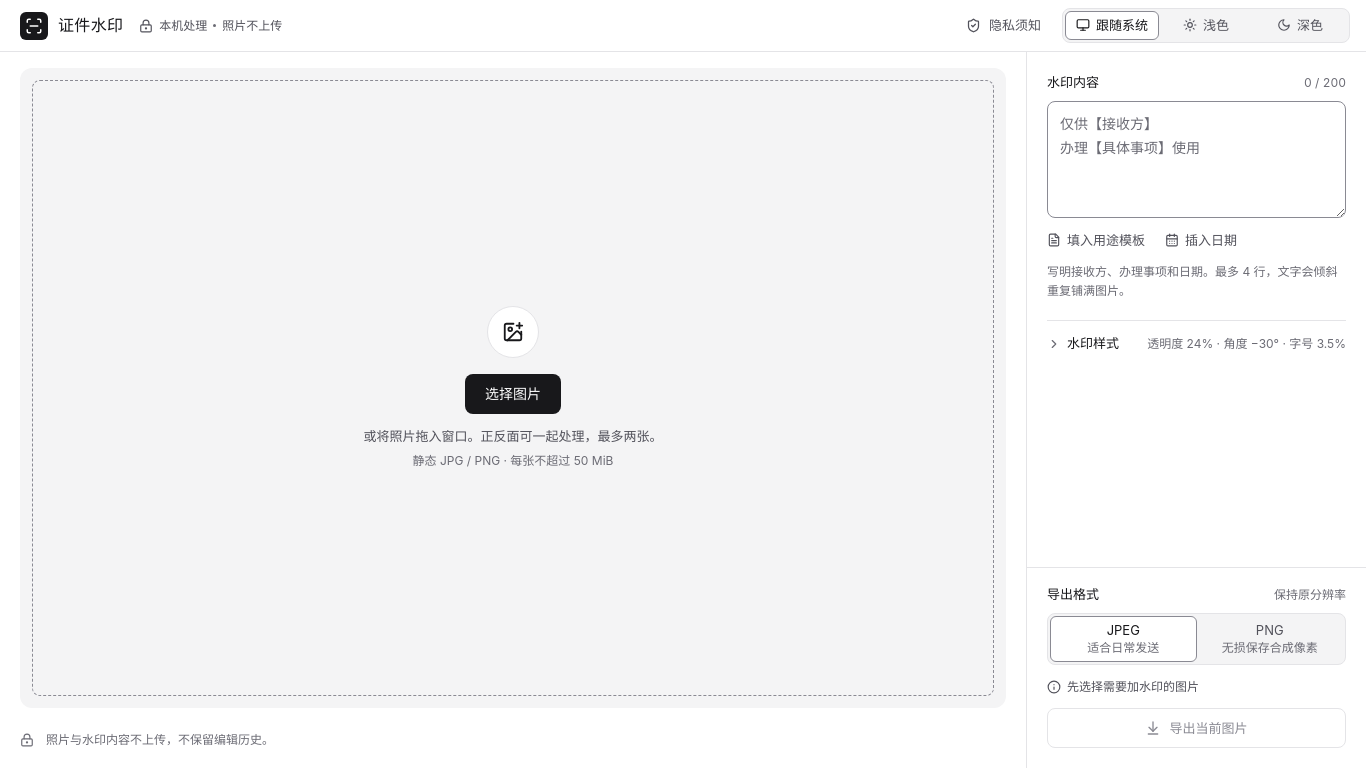
it: an export error appears in the export dock, not above the stage
Click the button "选择图片" at (90, 388), box [32,80,994,696]
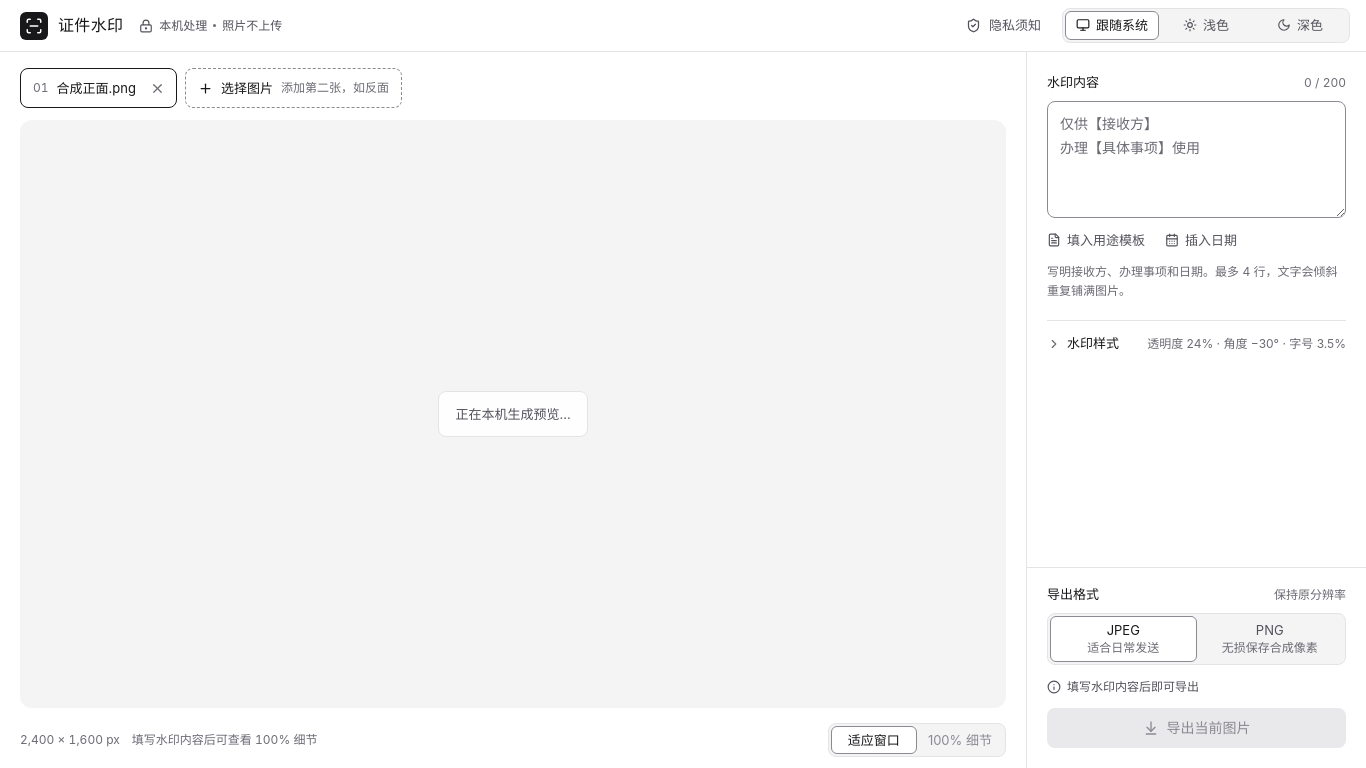
Expected: the text "合成正面.png" is shown, [57,78,136,98]
Type "仅供测试使用" into the text box labelled "水印内容" at (1196, 159), box [1047,101,1346,218]
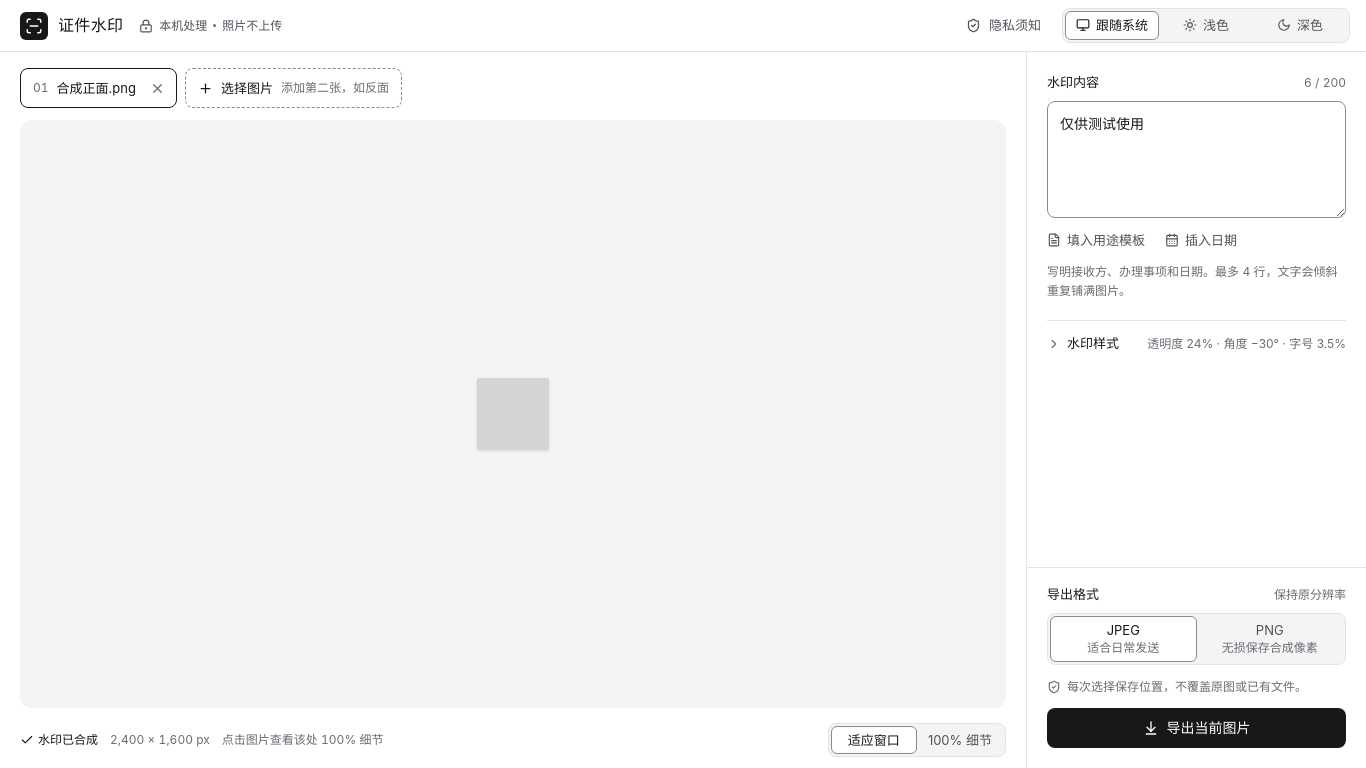
Expected: the button "导出当前图片" is enabled
Click the button "导出当前图片" at (1196, 728), box [1047,708,1346,748]
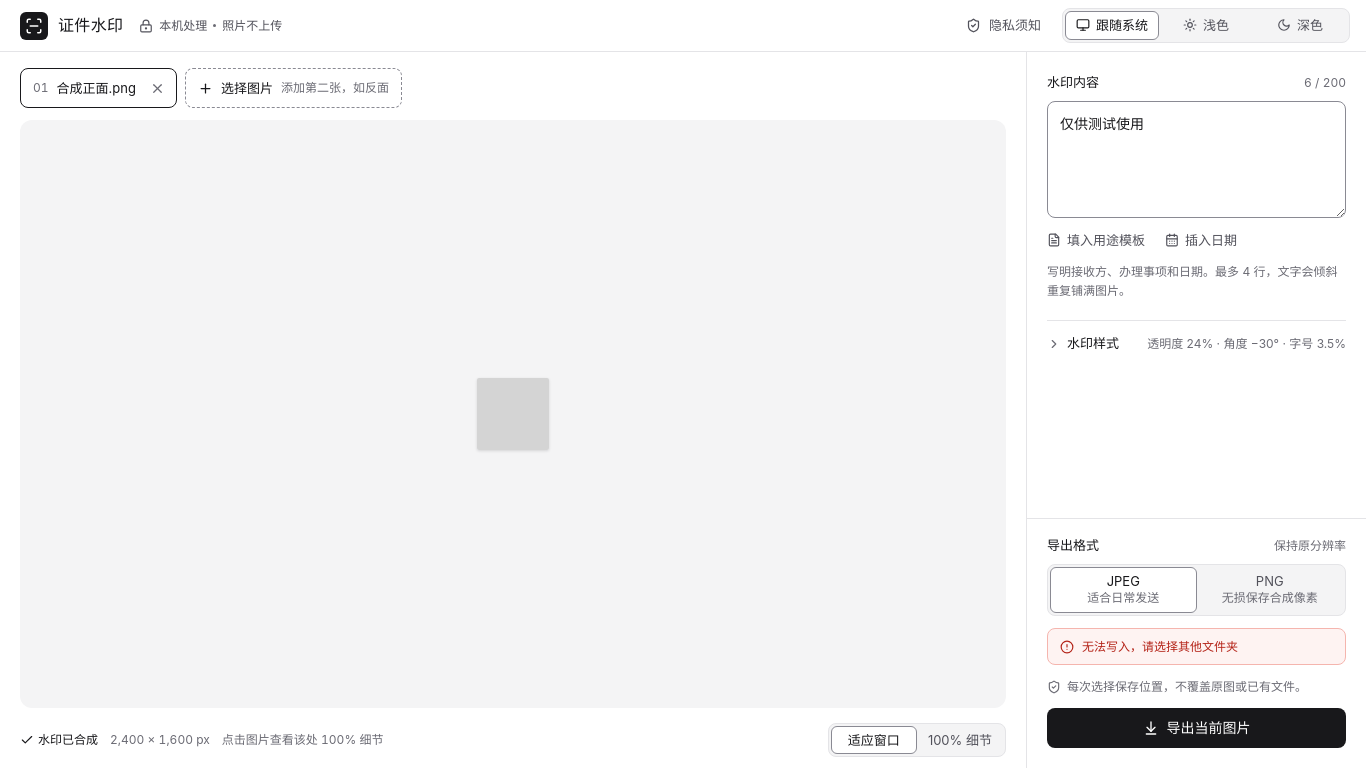
Expected: the message reads "无法写入，请选择其他文件夹", [1082,639,1238,654]
